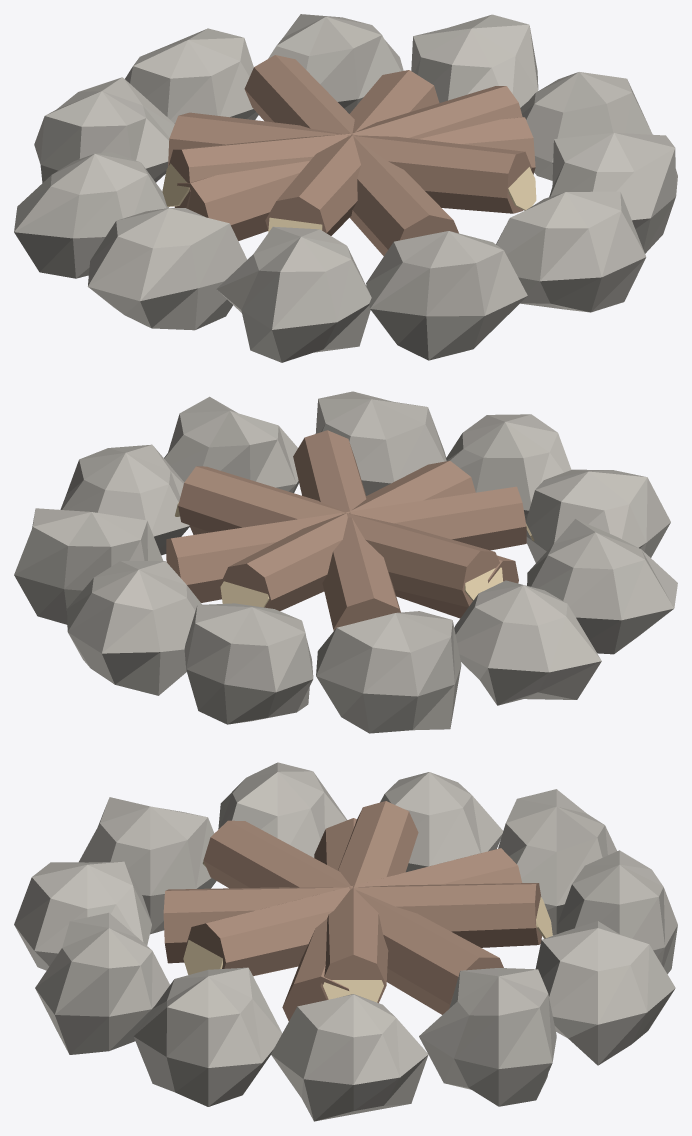
File: campfire.glb
The picture shows the model from 3 angles, top to bottom: view 1: azimuth 30°, elevation 25°; view 2: azimuth 150°, elevation 25°; view 3: azimuth 270°, elevation 25°; orthographic projection. The views are drawn at different scales.
Parts seen in each view (by area): view 1: campfire; view 2: campfire; view 3: campfire.
Part boxes in pixels (left/top/right/bottom): campfire: left=14, top=14, right=677, bottom=362; campfire: left=14, top=391, right=677, bottom=733; campfire: left=14, top=762, right=677, bottom=1121.
Bounding box in the file's own units: 1.68 × 0.3298 × 1.61.
